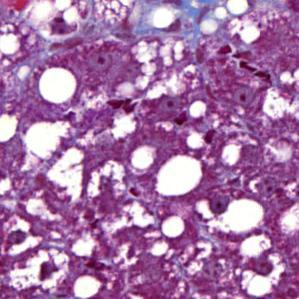steatosis: (40, 66, 78, 107)
